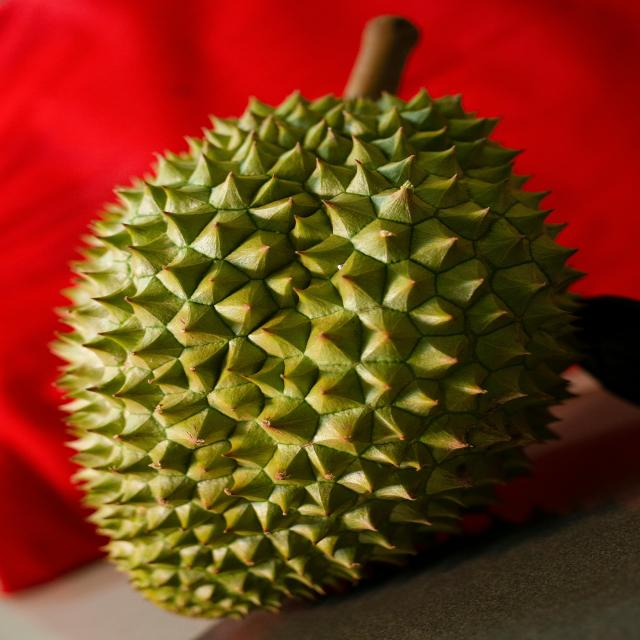immature: (56, 88, 598, 622)
